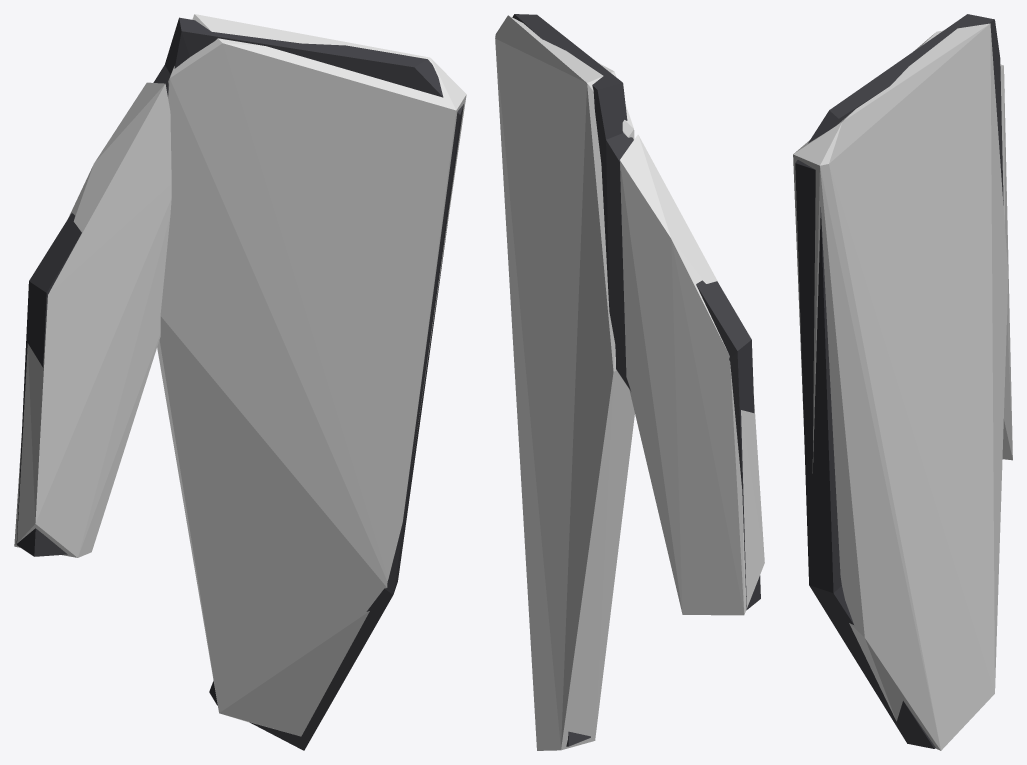
Rendered from SM_Env_Debris_Shell_06.fbx.
The picture shows the model from 3 angles, left to right: view 1: azimuth 30°, elevation 25°; view 2: azimuth 150°, elevation 25°; view 3: azimuth 270°, elevation 25°; orthographic projection. The views are drawn at different scales.
Parts seen in each view (by area): view 1: SM_Env_Debris_Shell_06_ConvexHulls, SM_Env_Debris_Shell_06_LOD0; view 2: SM_Env_Debris_Shell_06_ConvexHulls, SM_Env_Debris_Shell_06_LOD0; view 3: SM_Env_Debris_Shell_06_ConvexHulls, SM_Env_Debris_Shell_06_LOD0.
Boxes of the visible parts, x1,y1,x2,y2 form: SM_Env_Debris_Shell_06_ConvexHulls: (14, 14, 466, 736); SM_Env_Debris_Shell_06_LOD0: (16, 17, 463, 750); SM_Env_Debris_Shell_06_ConvexHulls: (495, 15, 764, 750); SM_Env_Debris_Shell_06_LOD0: (512, 14, 760, 746); SM_Env_Debris_Shell_06_ConvexHulls: (793, 23, 1012, 750); SM_Env_Debris_Shell_06_LOD0: (795, 14, 1003, 748).
Bounding box in the file's own units: 82.88 × 147 × 288.
1 material, 1 textured.
